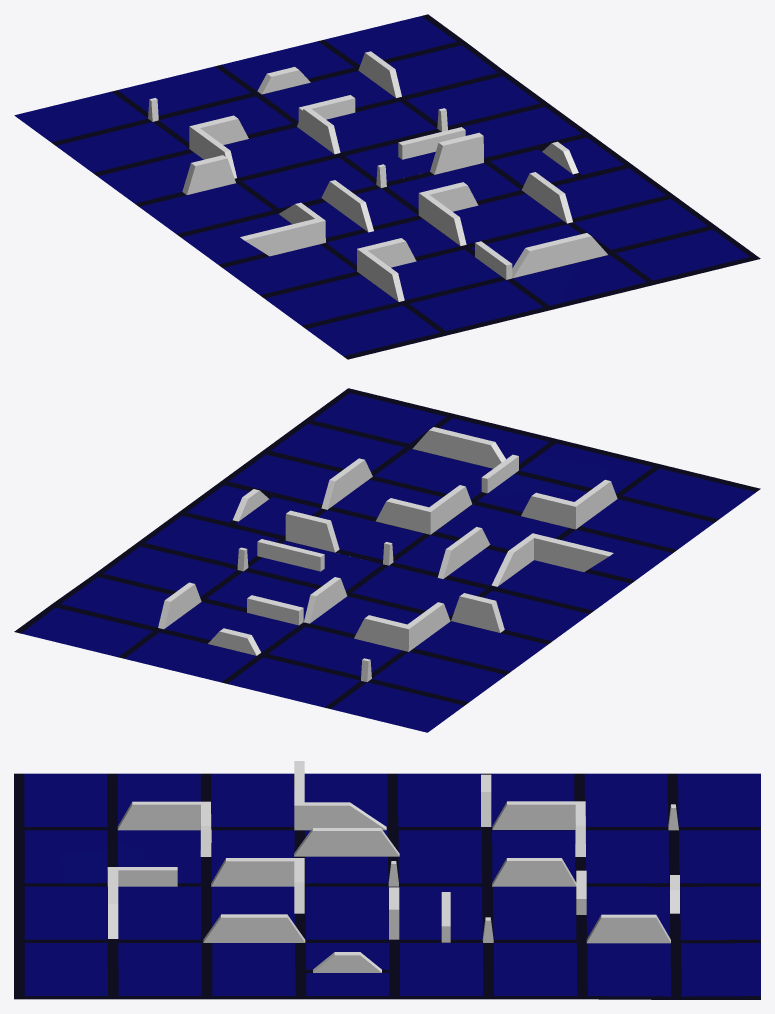
The model's file is Sol.FBX.
The picture shows the model from 3 angles, top to bottom: view 1: azimuth 30°, elevation 25°; view 2: azimuth 150°, elevation 25°; view 3: azimuth 270°, elevation 25°; orthographic projection. The views are drawn at different scales.
Visible parts, largest first — view 1: Boîte001, Boîte004, Boîte005, Boîte009, Boîte007, Boîte006, Boîte002, Boîte008, Boîte014, Boîte015, Boîte017, Boîte016 (+2 smaller); view 2: Boîte001, Boîte004, Boîte005, Boîte009, Boîte007, Boîte015, Boîte006, Boîte002, Boîte016, Boîte008, Boîte014, Boîte017 (+2 smaller); view 3: Boîte001, Boîte004, Boîte006, Boîte002, Boîte014, Boîte008, Boîte018, Boîte010, Boîte005, Boîte009, Boîte007, Boîte015 (+1 smaller).
Boxes of the visible parts, box(x1,y1,x2,y2) form: Boîte001: box(14, 14, 760, 359); Boîte004: box(189, 115, 478, 301); Boîte005: box(512, 233, 607, 277); Boîte009: box(430, 132, 483, 174); Boîte007: box(182, 155, 235, 194); Boîte006: box(321, 180, 373, 232); Boîte002: box(522, 172, 572, 223); Boîte008: box(297, 107, 340, 154); Boîte014: box(358, 51, 401, 97); Boîte015: box(398, 127, 465, 159); Boîte017: box(257, 67, 310, 94); Boîte016: box(298, 95, 355, 120); Boîte001: box(14, 388, 760, 732); Boîte004: box(354, 479, 617, 651); Boîte005: box(412, 427, 505, 468); Boîte009: box(285, 510, 339, 552); Boîte007: box(451, 593, 504, 632); Boîte015: box(257, 539, 324, 571); Boîte006: box(437, 527, 490, 578); Boîte002: box(321, 458, 372, 509); Boîte016: box(247, 595, 303, 625); Boîte008: box(304, 577, 347, 623); Boîte014: box(158, 582, 201, 629); Boîte017: box(208, 628, 260, 655); Boîte001: box(14, 773, 760, 999); Boîte004: box(117, 761, 585, 913); Boîte006: box(294, 828, 399, 856); Boîte002: box(203, 914, 305, 942); Boîte014: box(586, 914, 670, 943); Boîte008: box(492, 858, 576, 886); Boîte018: box(107, 867, 177, 886); Boîte010: box(313, 952, 381, 972); Boîte005: box(108, 870, 118, 938); Boîte009: box(389, 887, 399, 939); Boîte007: box(481, 774, 491, 826); Boîte015: box(441, 892, 450, 942).
Bounding box in the file's own units: 135 × 8.64 × 188.
